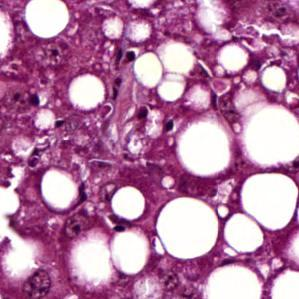steatosis: (157, 195, 220, 258), (239, 173, 298, 230), (27, 0, 70, 40), (40, 168, 79, 209), (114, 189, 149, 220)
